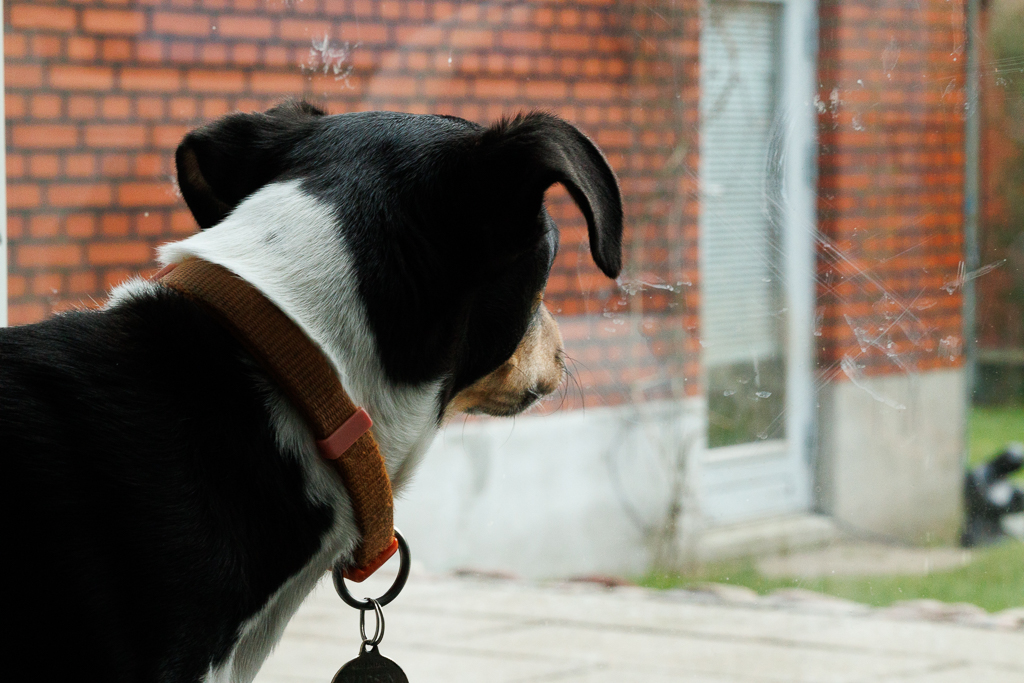Dog: (0, 90, 635, 683)
Humanoid: (945, 433, 1024, 559)
